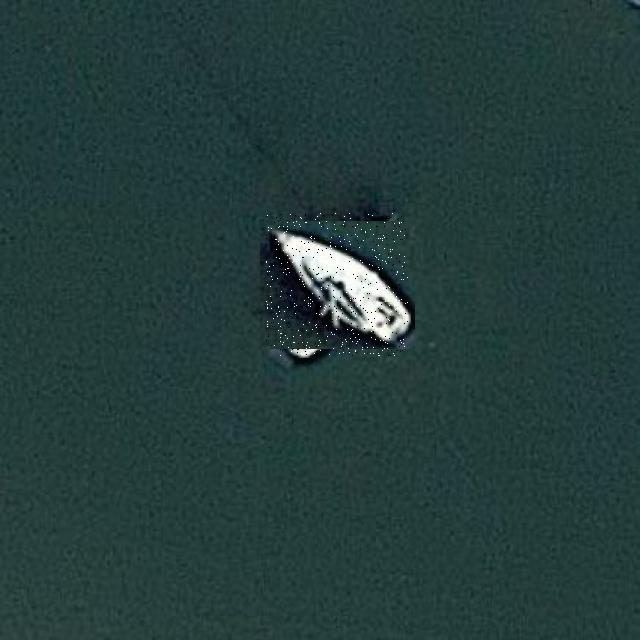boat: (266, 213, 408, 356)
